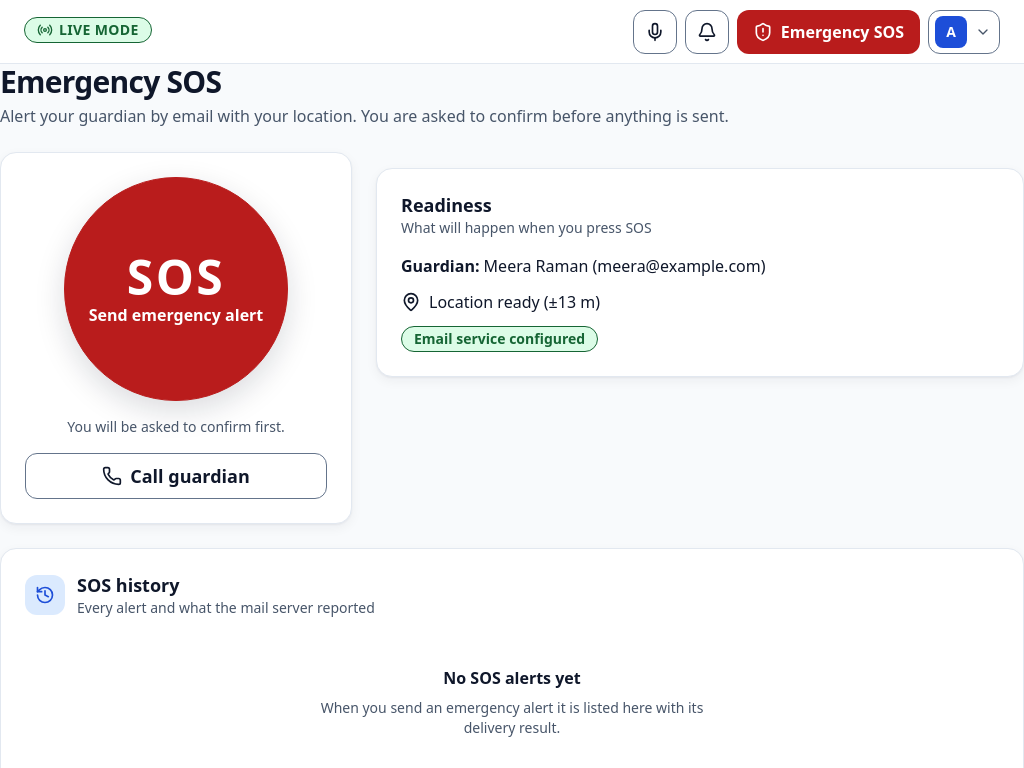
Scenario: SOS confirm and send › requires explicit confirmation and posts exactly the coordinates from the fix
The image size is (1024, 768).
Expected: the text "Meera Raman (meera@example.com)" is shown, [484,255,766,277]
Click the button "SOS Send emergency alert" at (176,289), box [64,177,288,401]
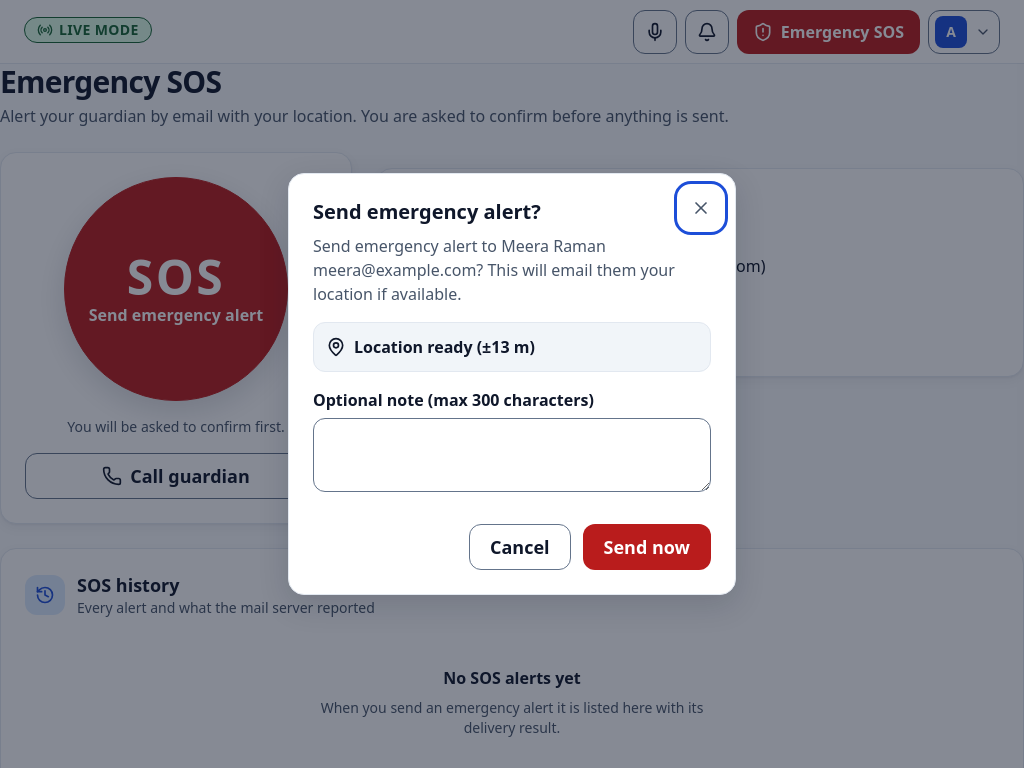
Now the text "Send emergency alert to Meera Raman meera@example.com? This will email them your location if available." is shown, box [313,235,675,305]
Type "at the bus stop" into the text box labelled "Optional note (max 300 characters)" at (512,455), box [313,418,711,492]
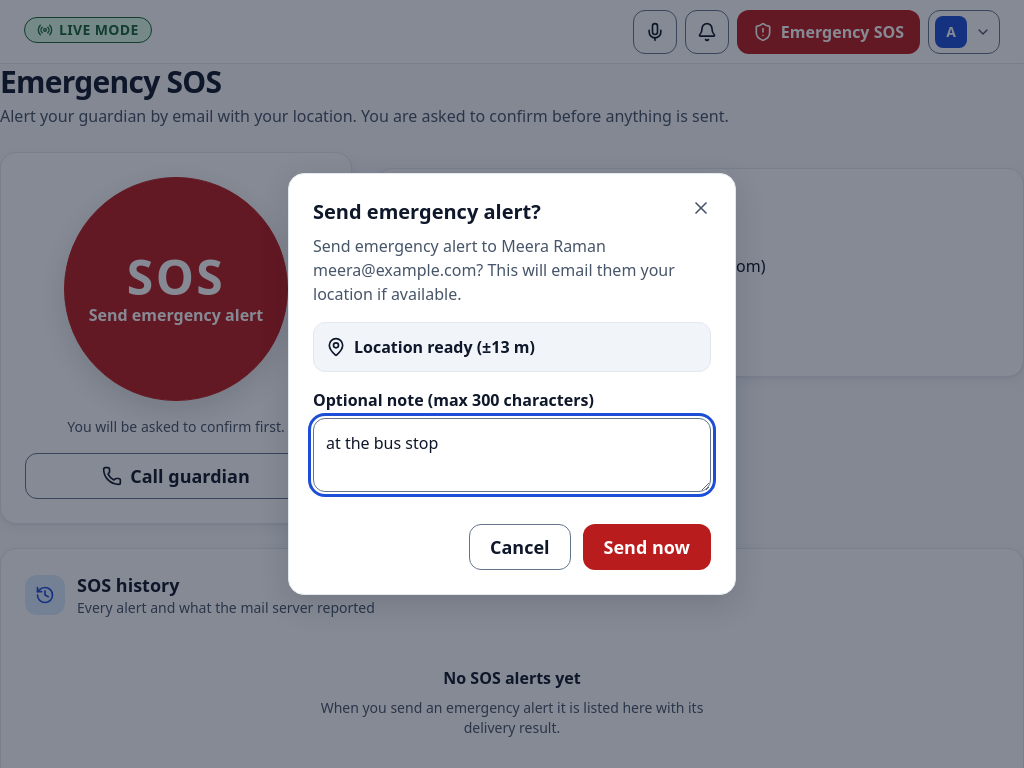
Click the button "Send now" at (647,547), box [582,524,711,570]
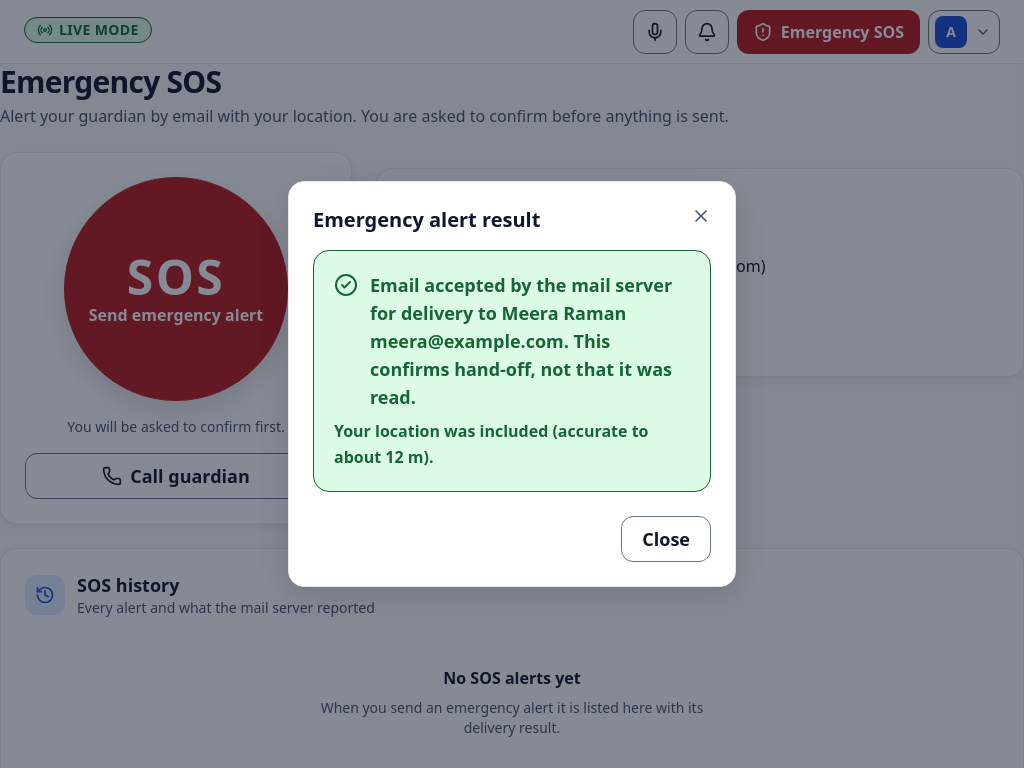
Now the text "Email accepted by the mail server for delivery to Meera Raman meera@example.com. This confirms hand-off, not that it wa" is shown, box [370,271,690,411]
